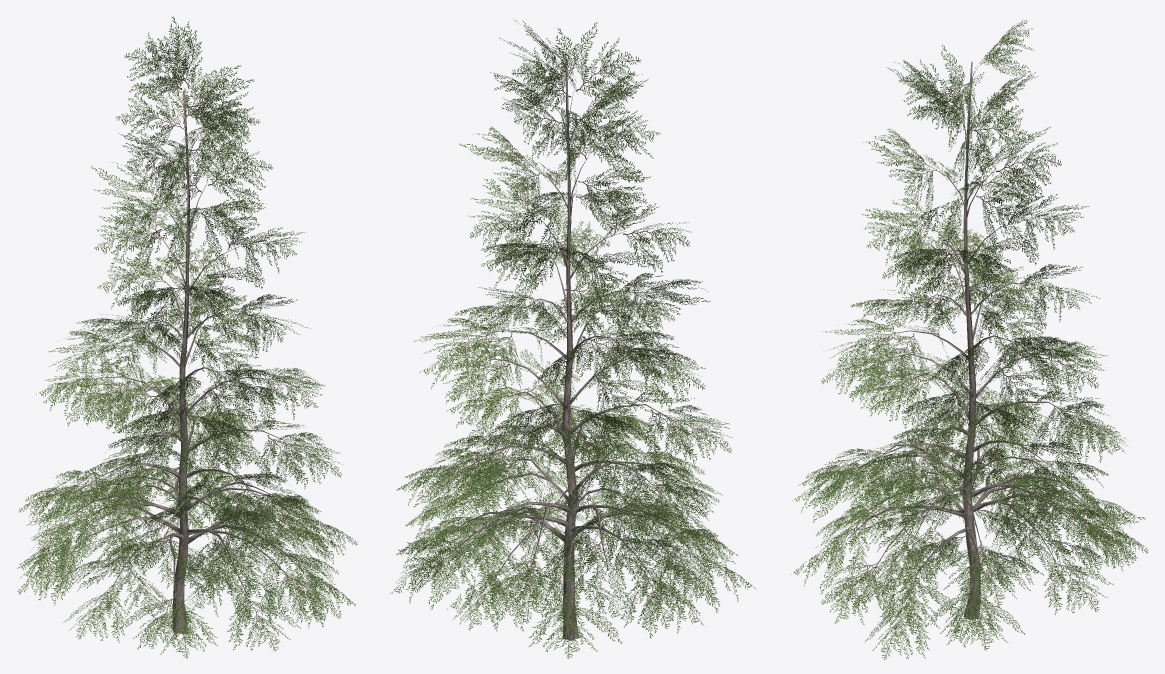
File: fir.glb
The picture shows the model from 3 angles, left to right: view 1: azimuth 30°, elevation 25°; view 2: azimuth 150°, elevation 25°; view 3: azimuth 270°, elevation 25°; orthographic projection. The views are drawn at different scales.
Visible parts, largest first — view 1: Tree_1_Tree_1Mat_0, Tree_0_Tree_0Mat_0; view 2: Tree_1_Tree_1Mat_0, Tree_0_Tree_0Mat_0; view 3: Tree_1_Tree_1Mat_0, Tree_0_Tree_0Mat_0.
Part boxes in pixels (x1,y1,x2,y2): Tree_1_Tree_1Mat_0: (17,16,357,658); Tree_0_Tree_0Mat_0: (68,90,298,633); Tree_1_Tree_1Mat_0: (390,19,755,658); Tree_0_Tree_0Mat_0: (449,59,693,640); Tree_1_Tree_1Mat_0: (791,20,1148,659); Tree_0_Tree_0Mat_0: (847,61,1086,619).
Size of the model in its own units: 2.39 by 4.39 by 2.37.
Materials: 2 (2 with a texture image).
